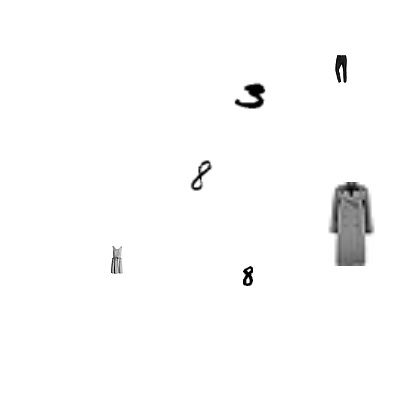3: (232, 74, 274, 116)
8: (179, 153, 221, 195), (234, 262, 262, 290)
Coat: (308, 182, 392, 266)
Dress: (103, 246, 131, 274)
Trouser: (327, 55, 355, 83)
